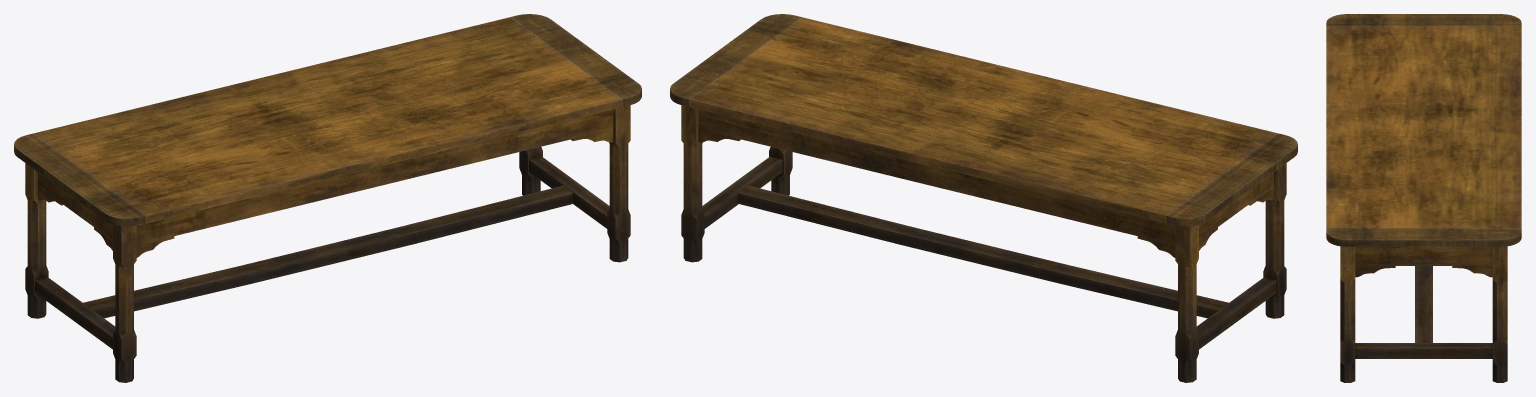
File: WoodenTable_01.glb
3 renders of one model, left to right at view 1: azimuth 30°, elevation 25°; view 2: azimuth 150°, elevation 25°; view 3: azimuth 270°, elevation 25°, orthographic. The views are drawn at different scales.
Visible parts, largest first — view 1: WoodenTable_01; view 2: WoodenTable_01; view 3: WoodenTable_01.
Part boxes in pixels (x1,y1,x2,y2): WoodenTable_01: (14, 14, 641, 382); WoodenTable_01: (670, 14, 1297, 382); WoodenTable_01: (1326, 14, 1521, 382).
Size of the model in its own units: 1.8 by 0.5488 by 0.6571.
Materials: 1 (1 with a texture image).
